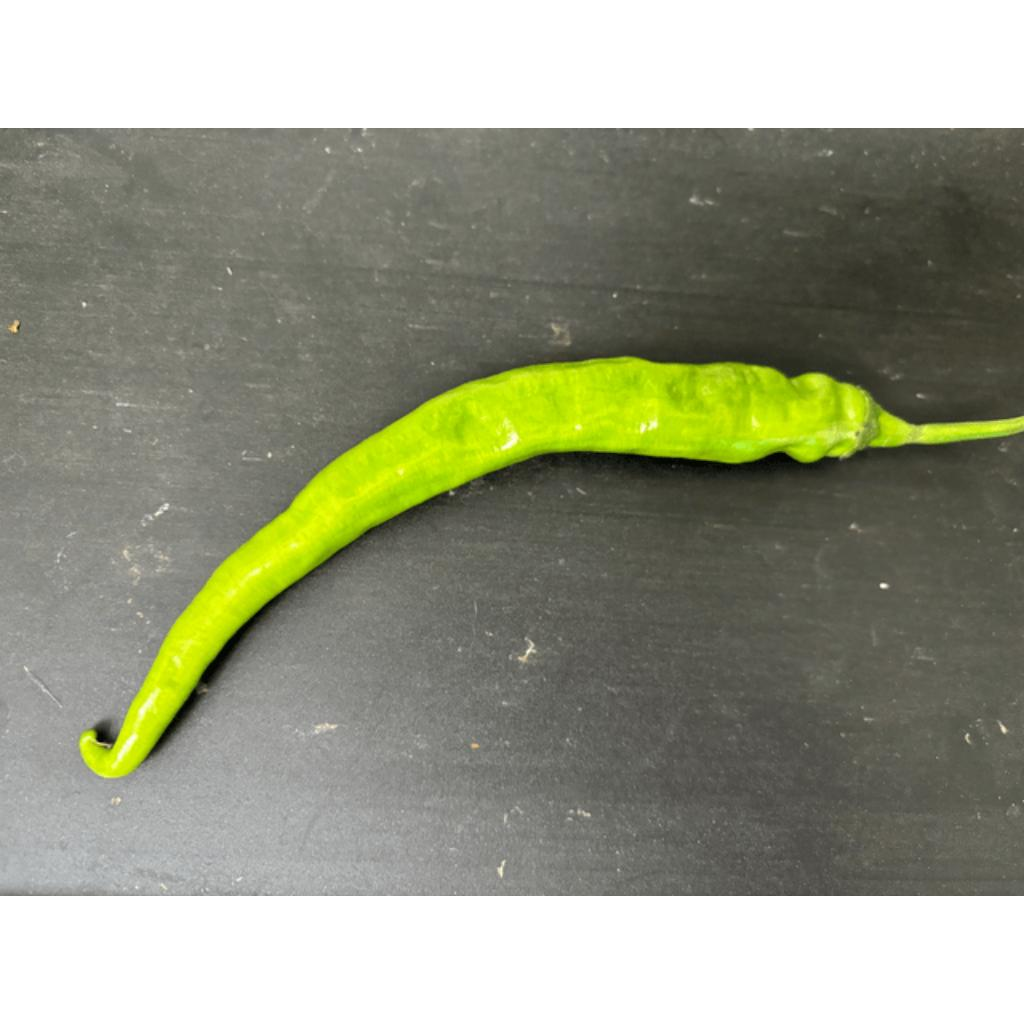chili: (75, 354, 889, 779)
